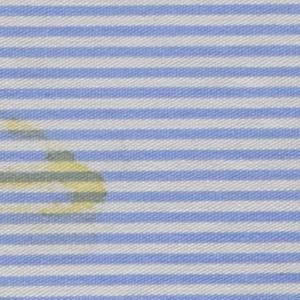Oil Stain: (1, 115, 119, 221)
